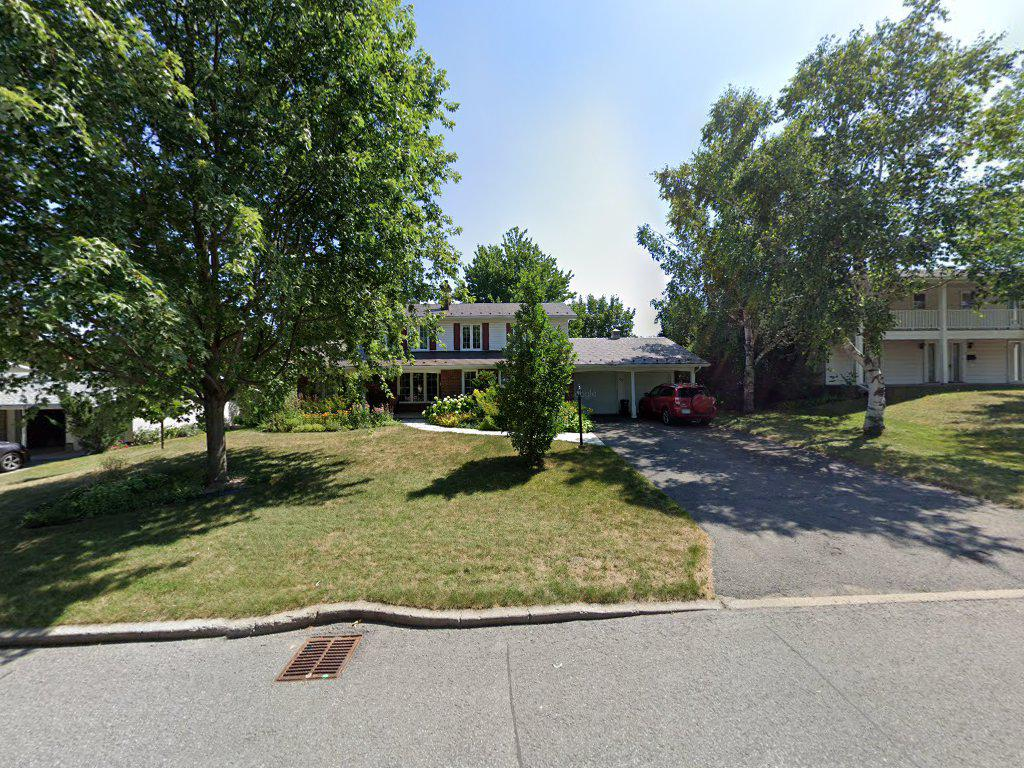trunk: (196, 357, 236, 501), (861, 322, 894, 447)
